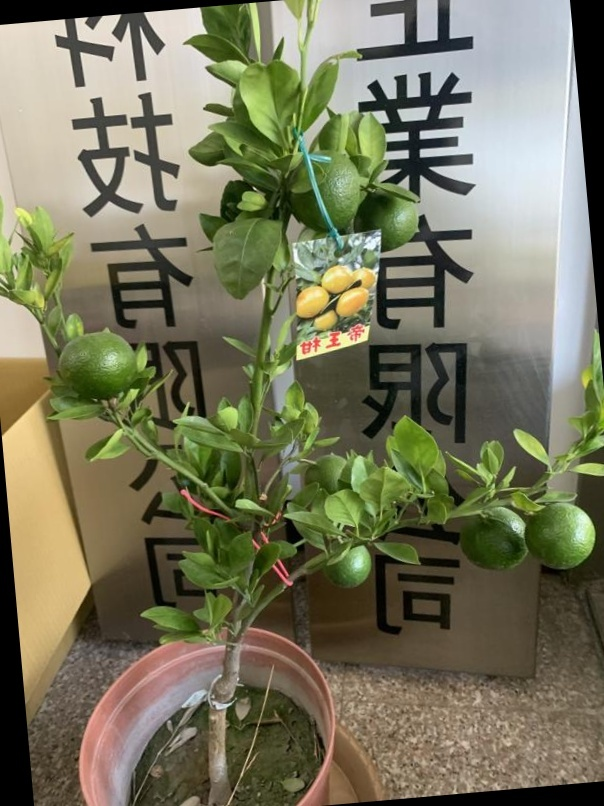Tangerine: (56, 333, 139, 400), (526, 500, 599, 573), (454, 502, 529, 573), (325, 549, 374, 590)
